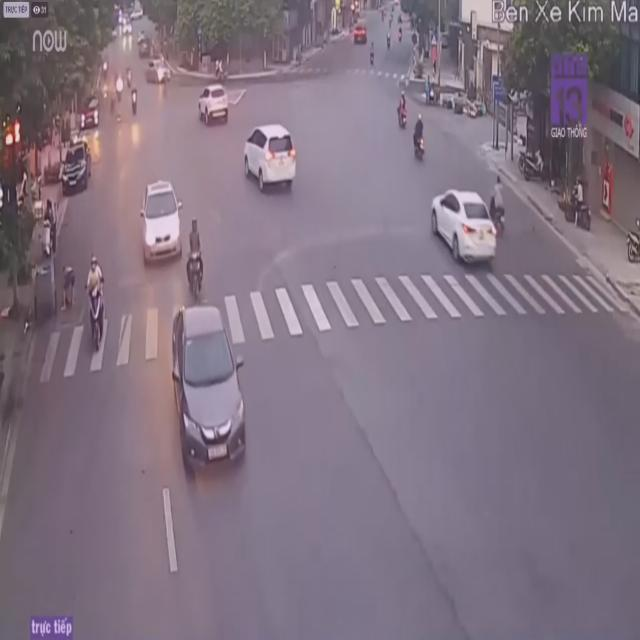car: (170, 298, 249, 473), (433, 188, 504, 269), (138, 179, 186, 271), (242, 124, 300, 198), (196, 83, 230, 129)
motorbike: (85, 250, 108, 354), (186, 216, 204, 298), (410, 116, 428, 162), (626, 212, 640, 270), (397, 88, 409, 131)
